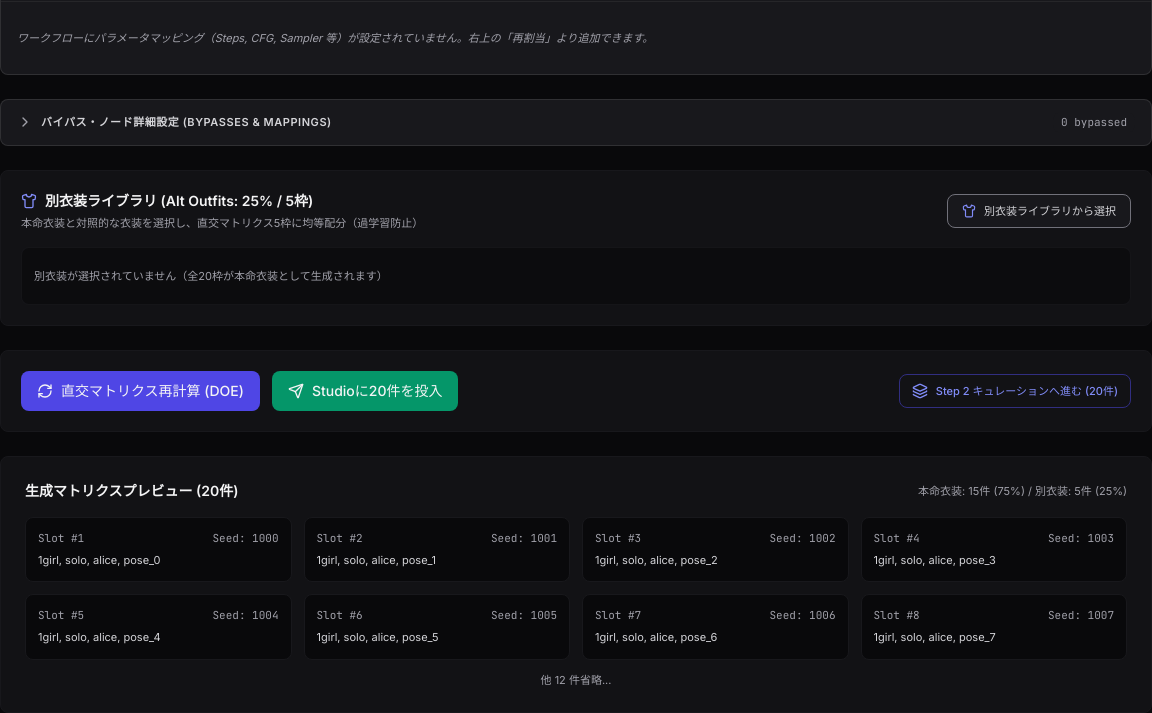
Scenario: MatrixGenerationStep › retains the batch submission extension and uses its returned batch identity
(page scrolled)
Click the button with test id "submit-batch-button".
click(365, 390)  # box [272,370,458,410]
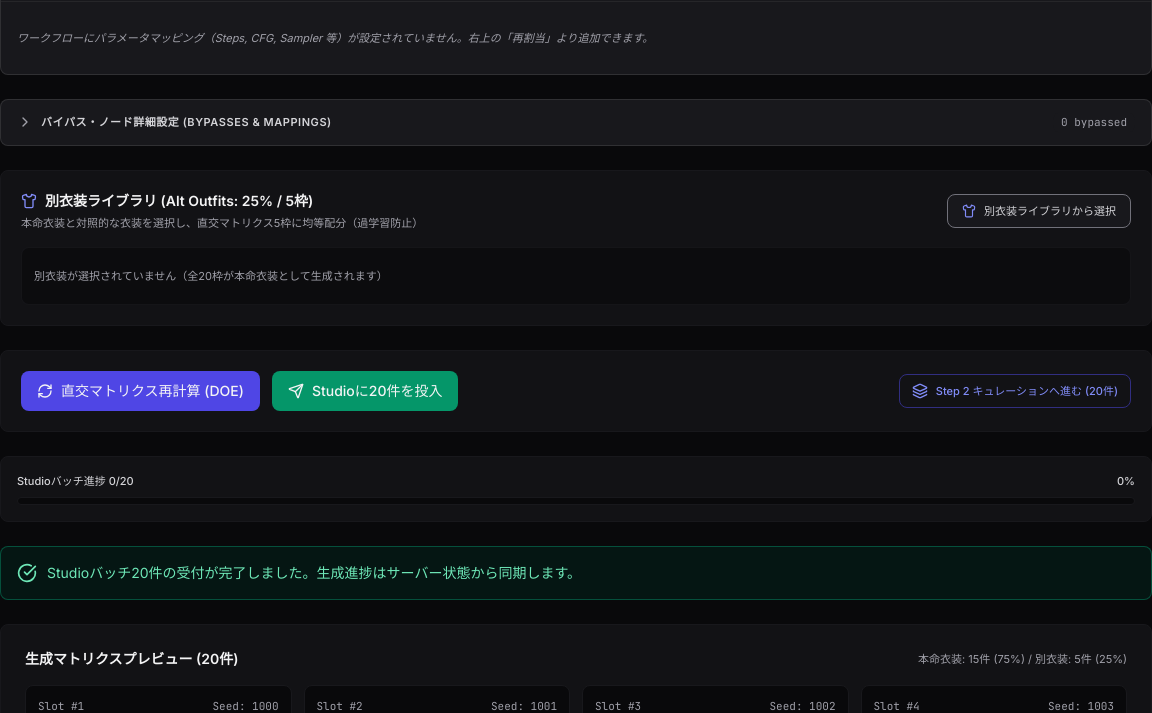
Check: the element with test id "status-message" shows "Studioバッチ20件の受付が完了しました", box [47,564,581,580]
Check: the element with test id "batch-progress-container" shows "0/20", box [109,474,134,488]
